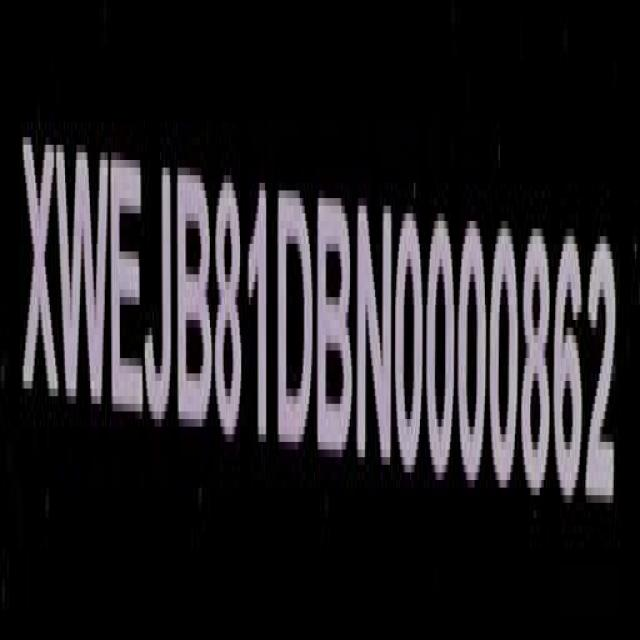0: (428, 208, 459, 487), (456, 211, 486, 491), (396, 200, 426, 478), (491, 220, 520, 494)
1: (248, 173, 272, 453)
2: (588, 230, 621, 514)
6: (555, 224, 585, 508)
8: (521, 220, 553, 499), (214, 173, 242, 448)
B: (318, 186, 353, 471), (179, 160, 213, 438)
D: (278, 179, 313, 458)
E: (110, 144, 144, 430)
J: (142, 144, 175, 436)
N: (359, 188, 395, 477)
W: (56, 133, 108, 428)
X: (20, 120, 59, 421)
